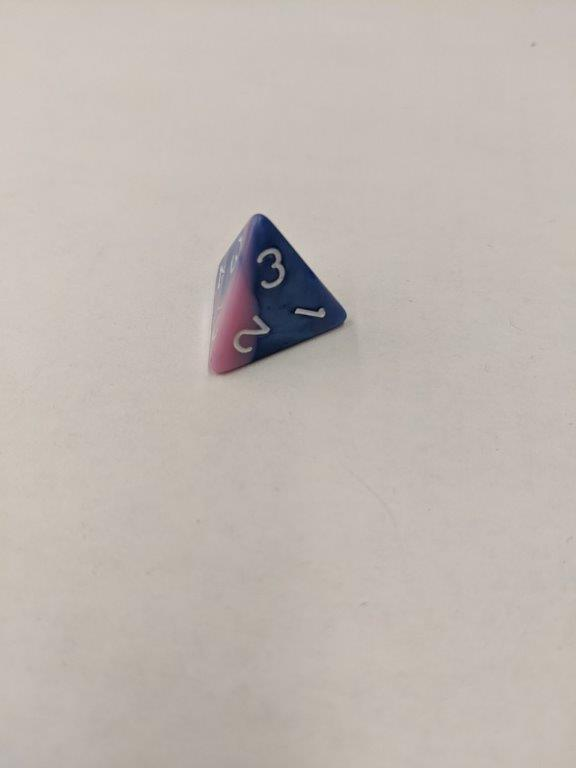d4-3: (201, 205, 353, 382)
